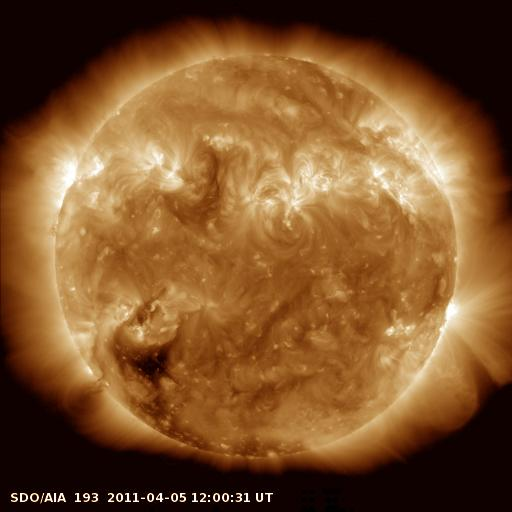coronal_hole: (105, 321, 213, 453)
